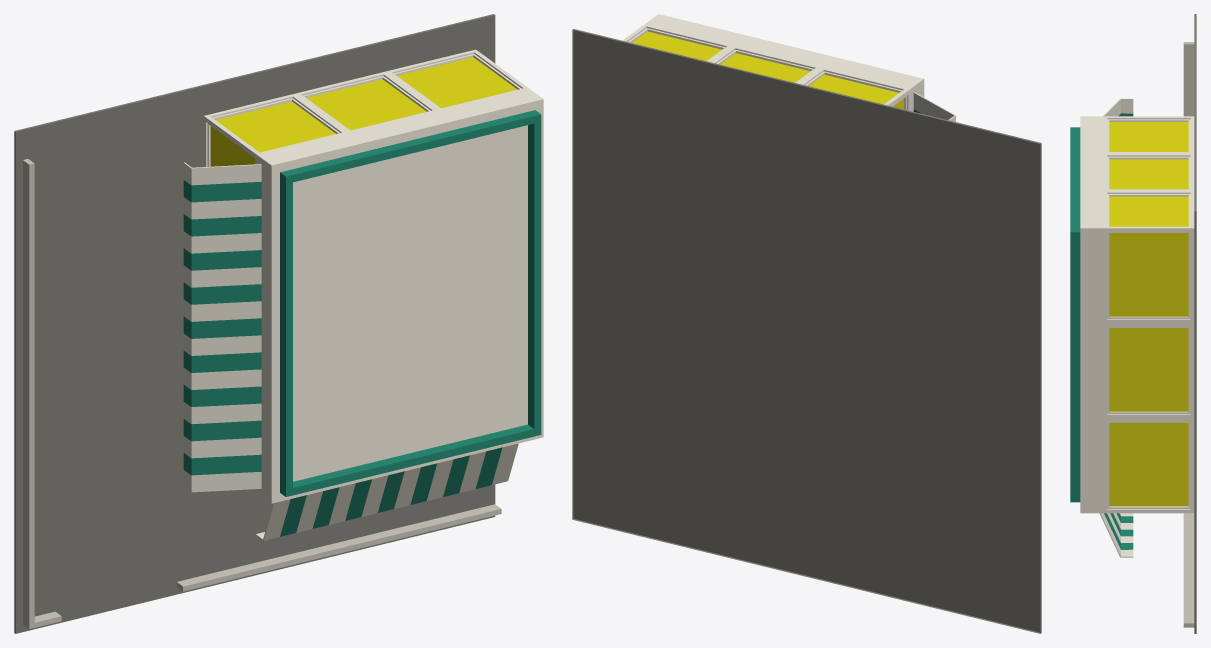
File: Restaurant_03.fbx
3 renders of one model, left to right at view 1: azimuth 30°, elevation 25°; view 2: azimuth 150°, elevation 25°; view 3: azimuth 270°, elevation 25°, orthographic. The views are drawn at different scales.
Parts seen in each view (by area): view 1: Restaurant_03; view 2: Restaurant_03; view 3: Restaurant_03.
Boxes of the visible parts, x1,y1,x2,y2 form: Restaurant_03: (14, 14, 543, 633); Restaurant_03: (572, 14, 1041, 633); Restaurant_03: (1070, 14, 1196, 633).
Bounding box in the file's own units: 200 × 200 × 54.29.
